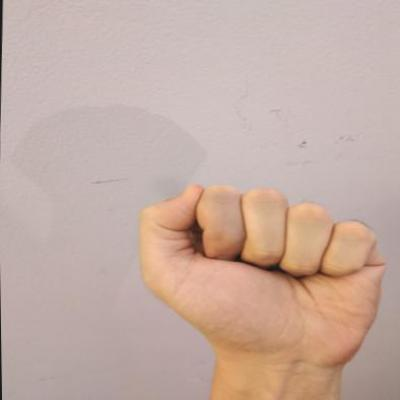hand: (127, 178, 394, 372)
